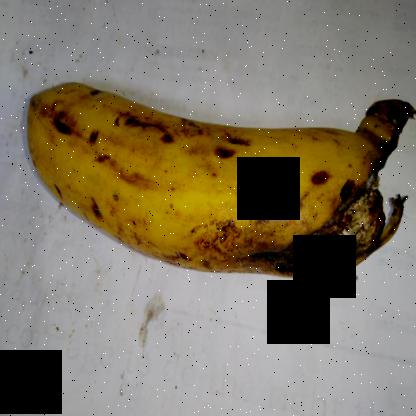ripe: (15, 70, 406, 302)
rotten: (240, 122, 416, 294)
